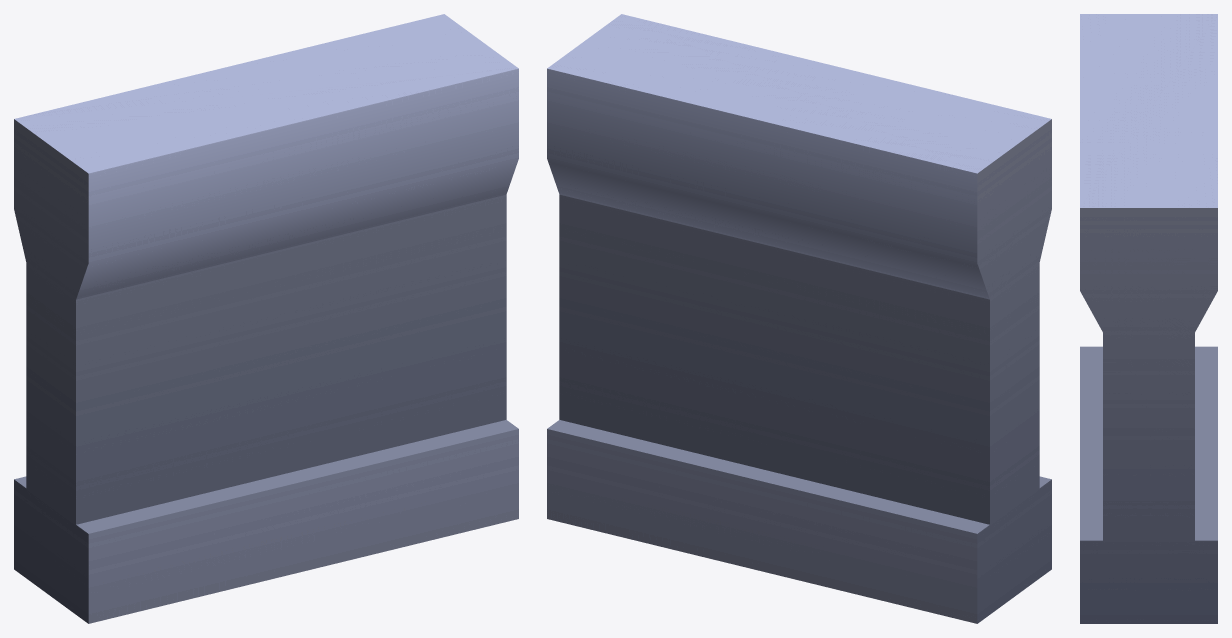
The model's file is wall.glb.
3 renders of one model, left to right at view 1: azimuth 30°, elevation 25°; view 2: azimuth 150°, elevation 25°; view 3: azimuth 270°, elevation 25°, orthographic. The views are drawn at different scales.
Parts seen in each view (by area): view 1: wall; view 2: wall; view 3: wall.
Part boxes in pixels (x1,y1,x2,y2): wall: (14,14,518,623); wall: (547,14,1051,623); wall: (1080,14,1217,623).
Bounding box in the file's own units: 1 × 1 × 0.3.
Materials: 1 (1 with a texture image).
